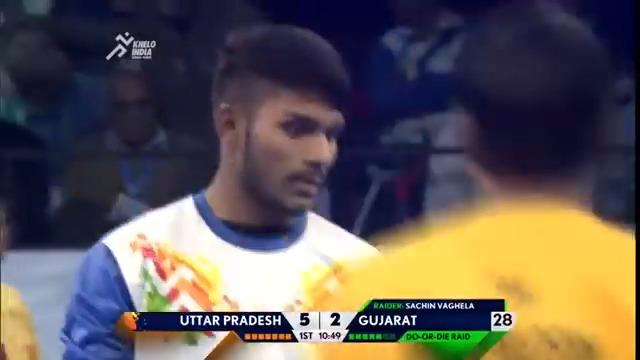Player: (301, 1, 636, 358)
Raider: (58, 21, 385, 357)
